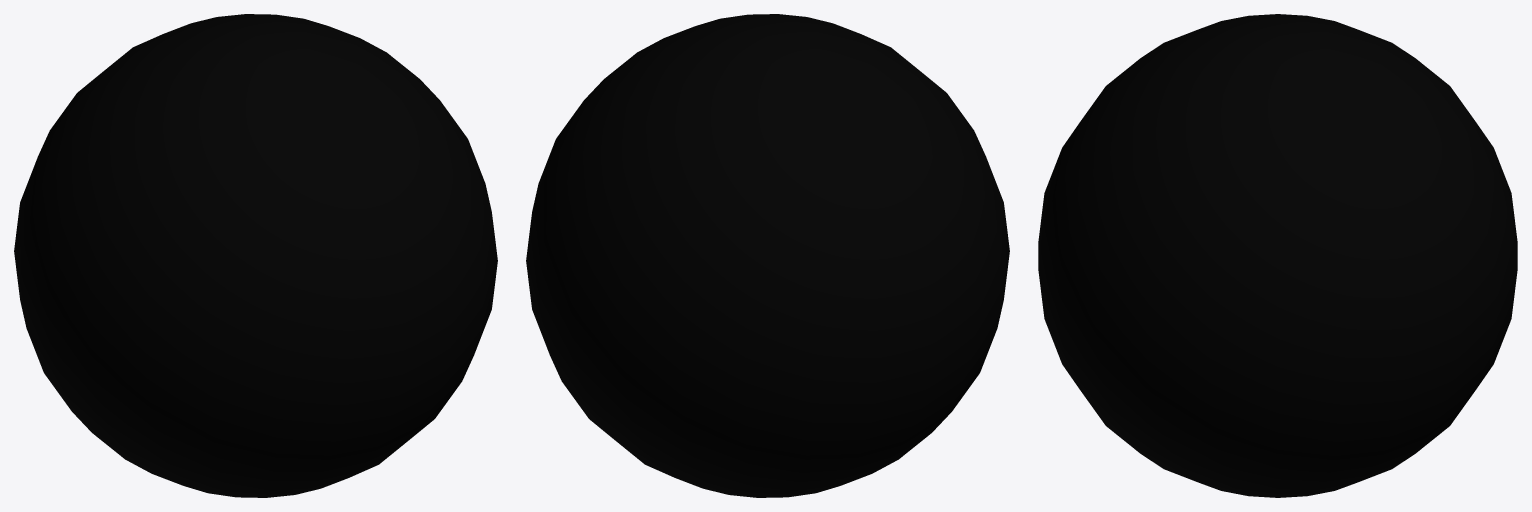
The model's file is SnookerBall_Black.fbx.
3 renders of one model, left to right at view 1: azimuth 30°, elevation 25°; view 2: azimuth 150°, elevation 25°; view 3: azimuth 270°, elevation 25°, orthographic.
Visible parts, largest first — view 1: SnoookerBall_Black; view 2: SnoookerBall_Black; view 3: SnoookerBall_Black.
Boxes of the visible parts, x1,y1,x2,y2 form: SnoookerBall_Black: (14,14,497,497); SnoookerBall_Black: (526,14,1009,497); SnoookerBall_Black: (1038,14,1517,497).
Bounding box in the file's own units: 0.052 × 0.052 × 0.0515.
Materials: 1 (1 with a texture image).
